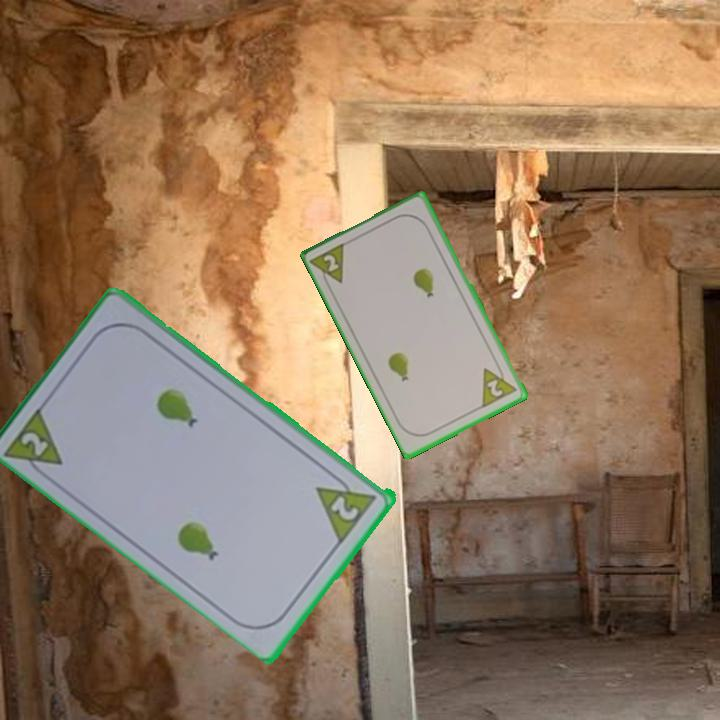2p: (308, 239, 350, 292), (478, 359, 520, 410), (327, 491, 362, 524), (18, 427, 52, 460)
